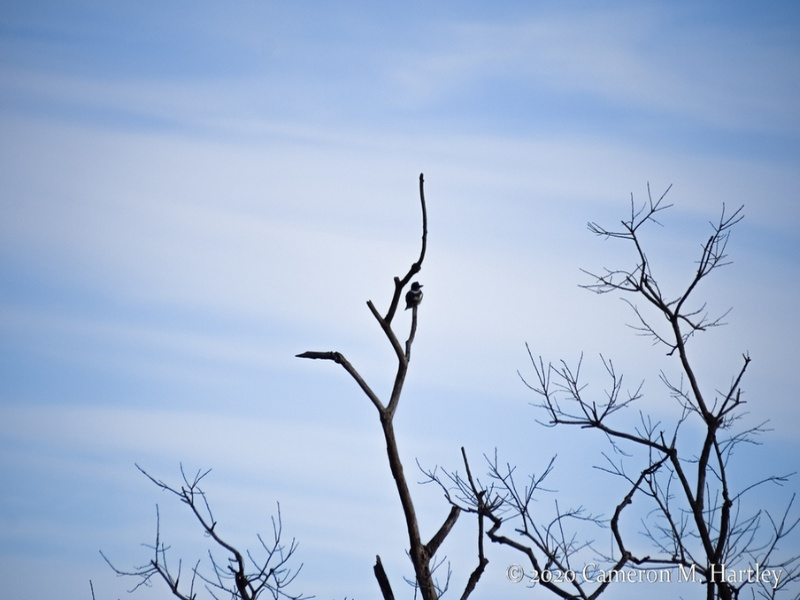kingfisher: (403, 280, 426, 312)
